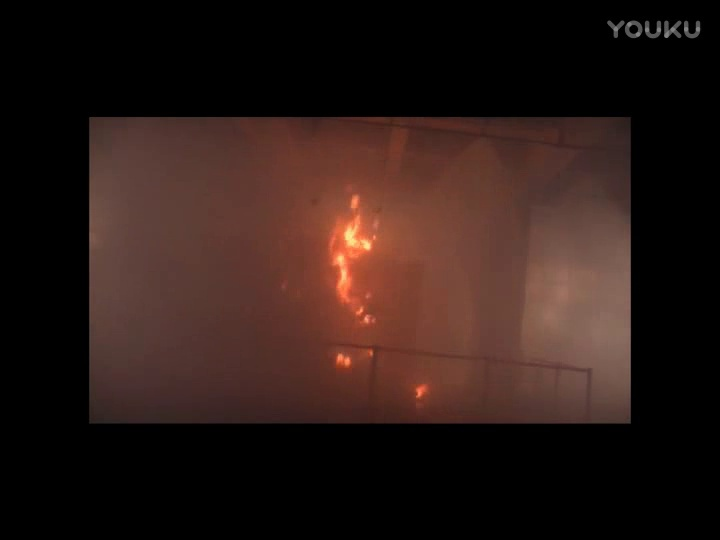fire: (331, 199, 377, 323), (334, 354, 349, 370), (415, 385, 429, 401)
